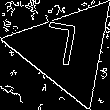L_S: (46, 22, 87, 77)
